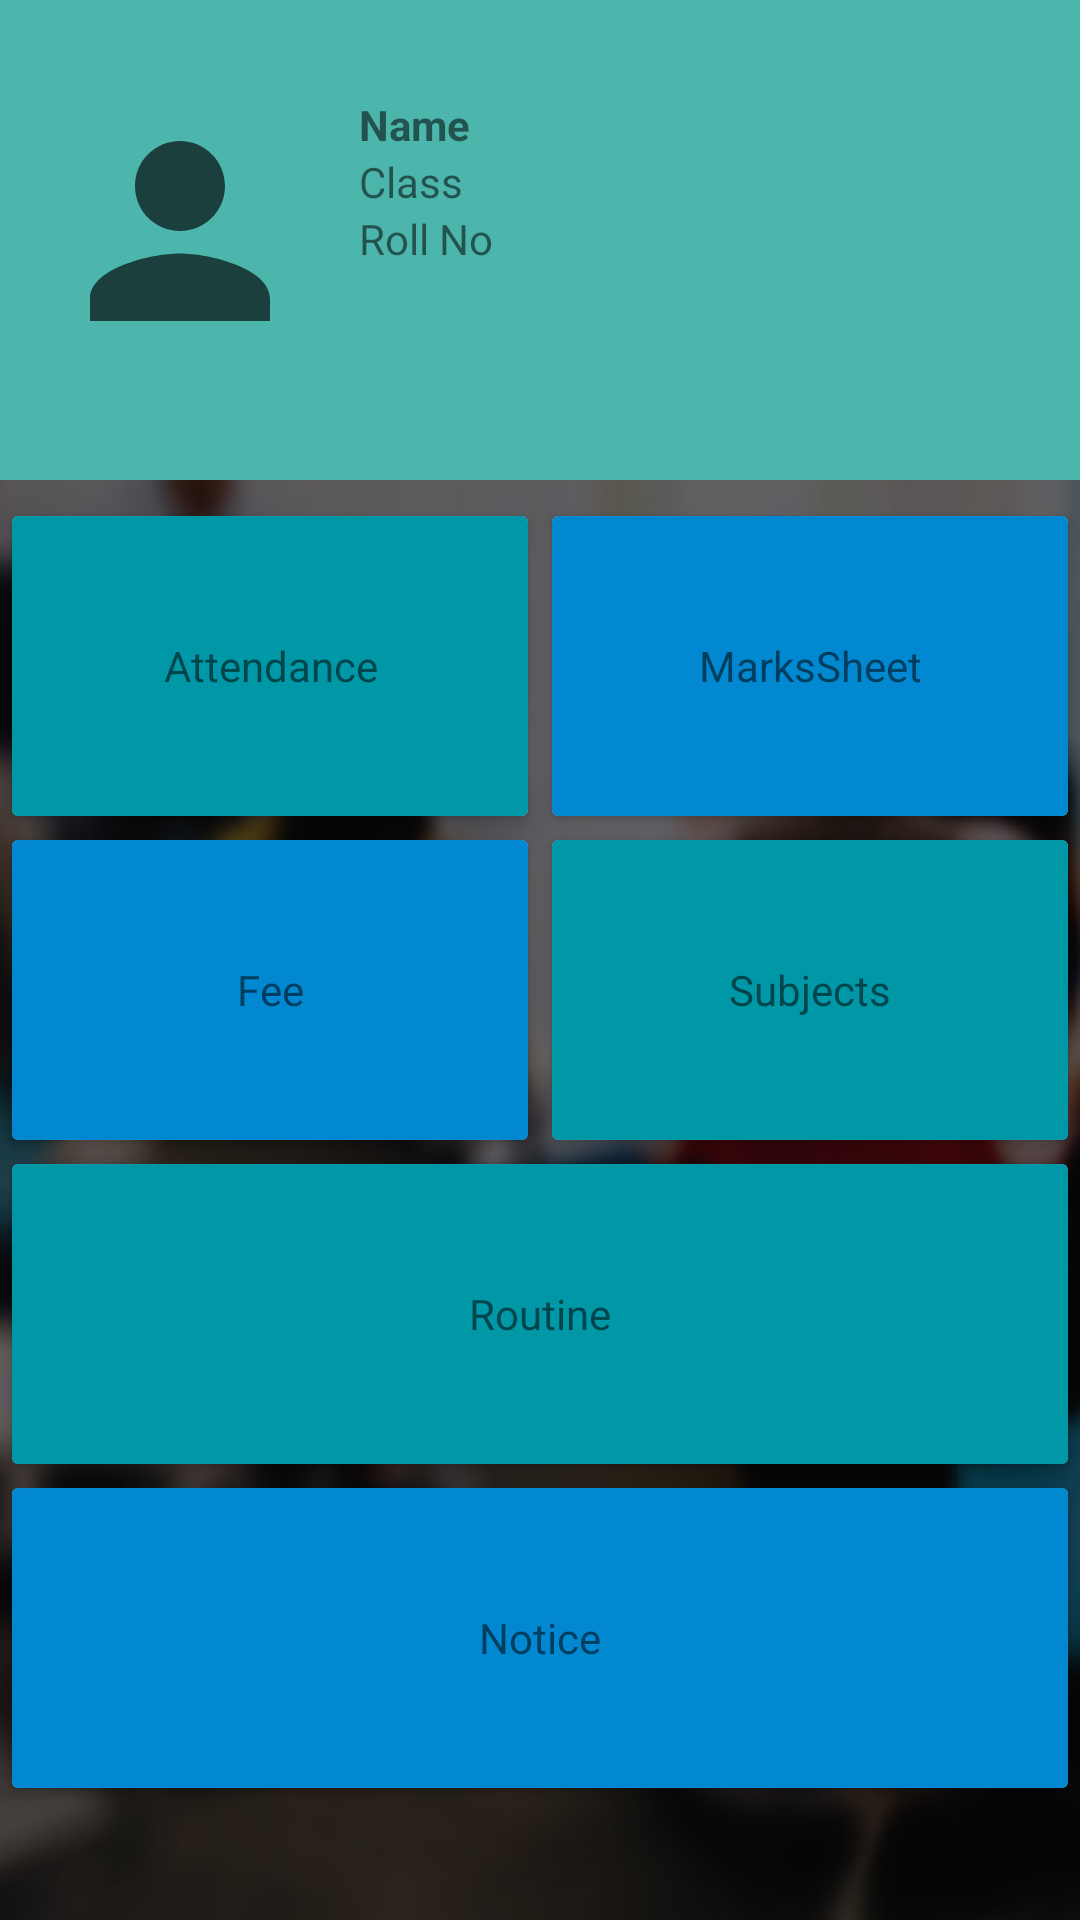

Where to tap for icons on this 1080 x 1920 app screen, as (x=x, y=y):
Student Image: (x=180, y=231)
